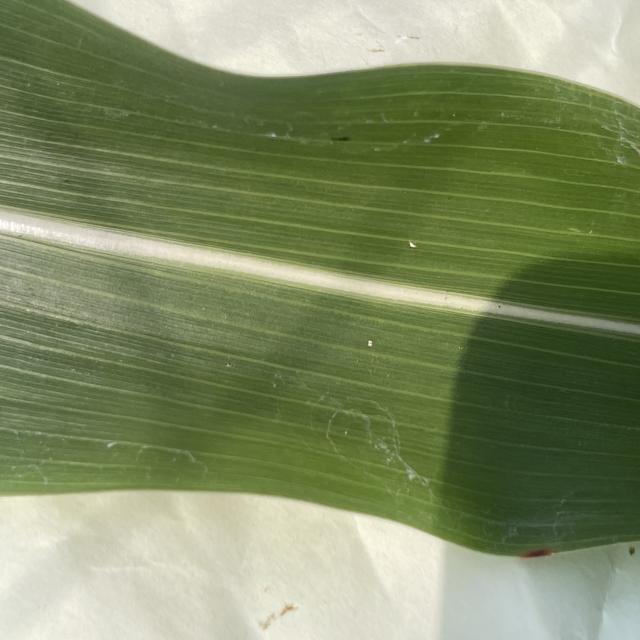millet_healthy: (0, 1, 640, 325), (0, 230, 640, 554)
